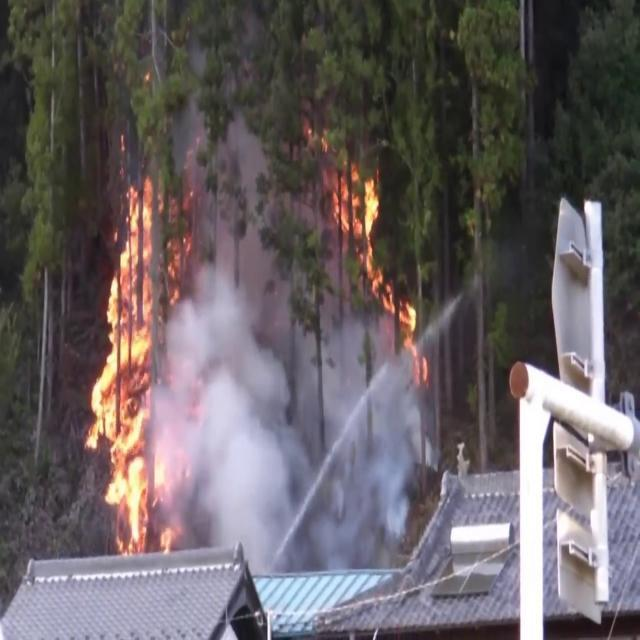Fire: (83, 166, 173, 552), (368, 266, 430, 372), (334, 152, 384, 272)
Smoke: (152, 112, 442, 607)
